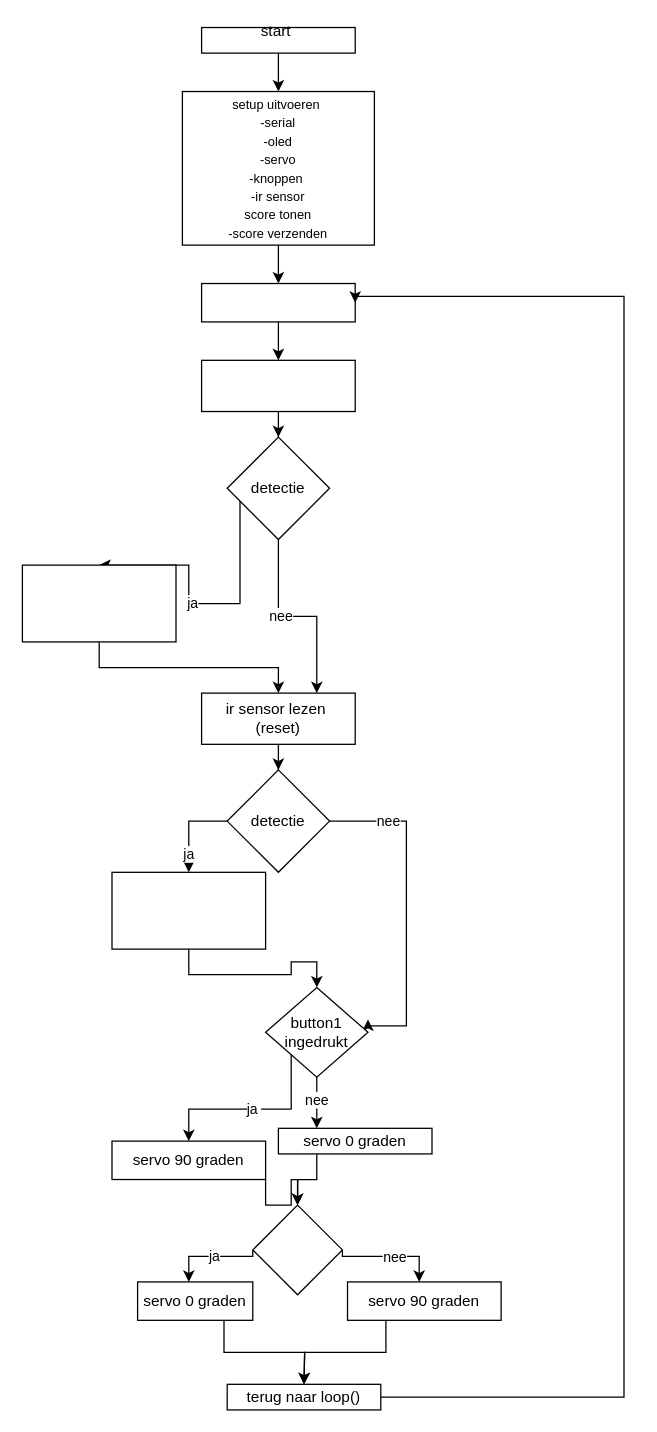
Image size: 657x1432. Some labels were removed from this diagram. The centre of each missing label's shape, as x and y in pixels:
"button2 ingedrukt" goes at pixel 297 1249.
"ir sensor lezen (punten)" goes at pixel 277 385.
"loop()" goes at pixel 277 302.
"score +100 display updaten score zenden naar flipperboard" goes at pixel 98 603.
"score naar 0 update display" goes at pixel 188 910.
